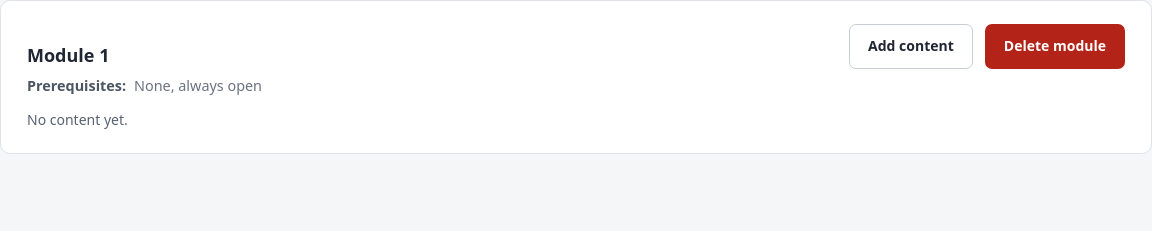
Test: ModuleList › as a teacher › shows an error when deletion fails
This screenshot has width=1152, height=231.
Click the button "Delete module" at (1055, 46), box [985,24,1125,69]
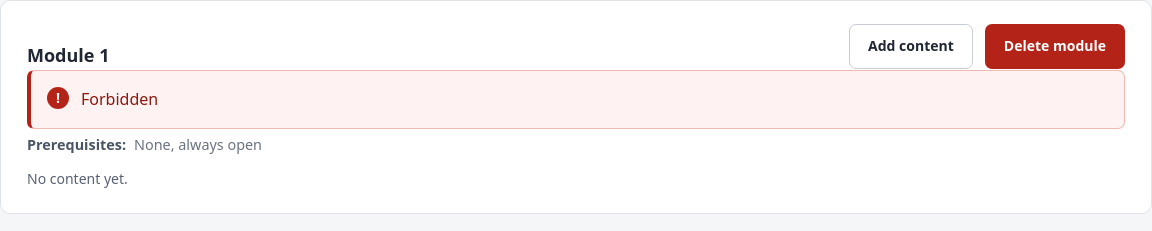
Expected: the message shows "Forbidden", [81,88,158,110]
